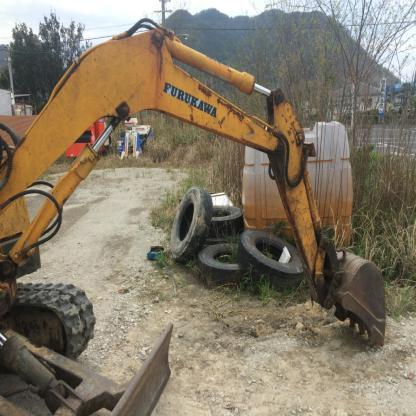excavator: (7, 15, 390, 373)
